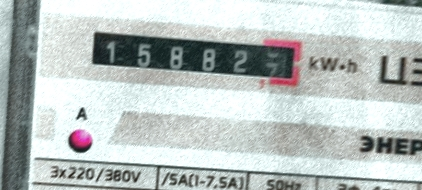1: (104, 34, 119, 64)
2: (231, 46, 250, 73)
5: (134, 39, 154, 70)
7: (263, 58, 278, 76)
8: (199, 43, 218, 72), (167, 41, 185, 71)
screen: (79, 13, 309, 93)
